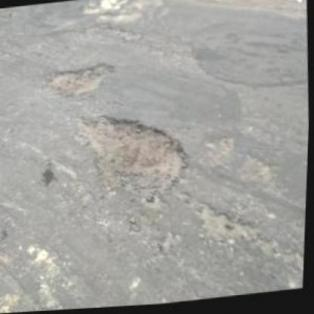Hueco: (72, 105, 191, 209), (44, 61, 115, 99)
